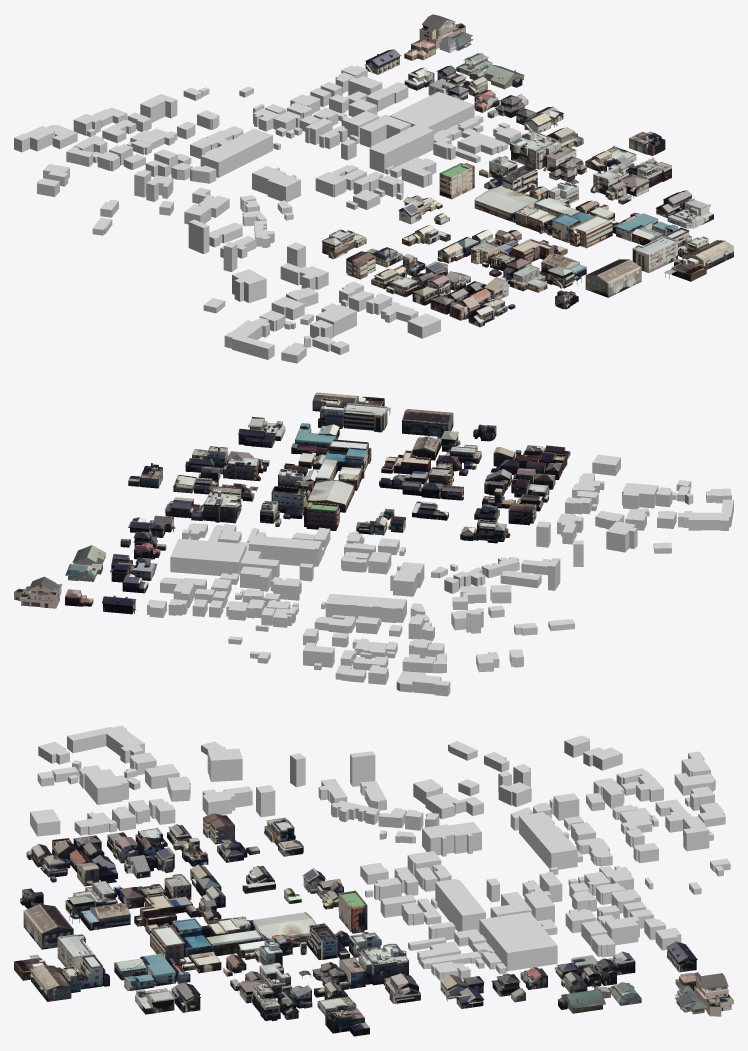
The model's file is lod3-station-2-0-packed.glb.
The picture shows the model from 3 angles, top to bottom: view 1: azimuth 30°, elevation 25°; view 2: azimuth 150°, elevation 25°; view 3: azimuth 270°, elevation 25°; orthographic projection. The views are drawn at different scales.
Bounding box in the file's own units: 343 × 16.82 × 352.
Materials: 20 (19 with a texture image).
